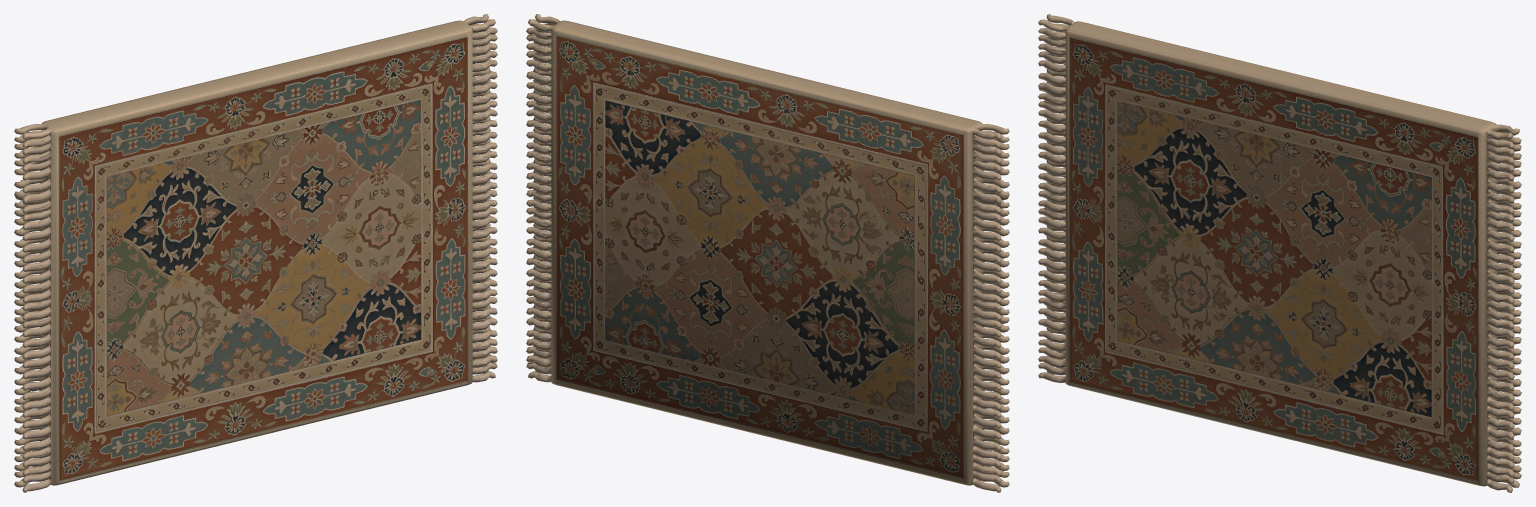
Rendered from patterned-rug.glb.
3 views of the same model, side by side, from view 1: azimuth 30°, elevation 25°; view 2: azimuth 150°, elevation 25°; view 3: azimuth 330°, elevation 25° (orthographic).
Parts seen in each view (by area): view 1: tripo_node_77505b0e-cdd5-4990-b3bf-13277b7a58d0; view 2: tripo_node_77505b0e-cdd5-4990-b3bf-13277b7a58d0; view 3: tripo_node_77505b0e-cdd5-4990-b3bf-13277b7a58d0.
Boxes of the visible parts, bbox=[...] form: tripo_node_77505b0e-cdd5-4990-b3bf-13277b7a58d0: bbox=[14, 14, 497, 492]; tripo_node_77505b0e-cdd5-4990-b3bf-13277b7a58d0: bbox=[526, 14, 1009, 492]; tripo_node_77505b0e-cdd5-4990-b3bf-13277b7a58d0: bbox=[1038, 14, 1521, 492].
Bounding box in the file's own units: 0.9788 × 0.7068 × 0.0479.
1 material, 1 textured.
